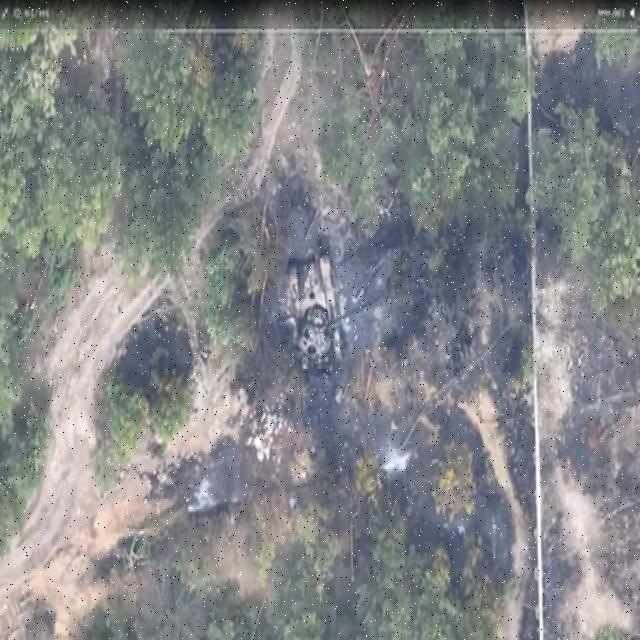TANK: (288, 246, 382, 378)
